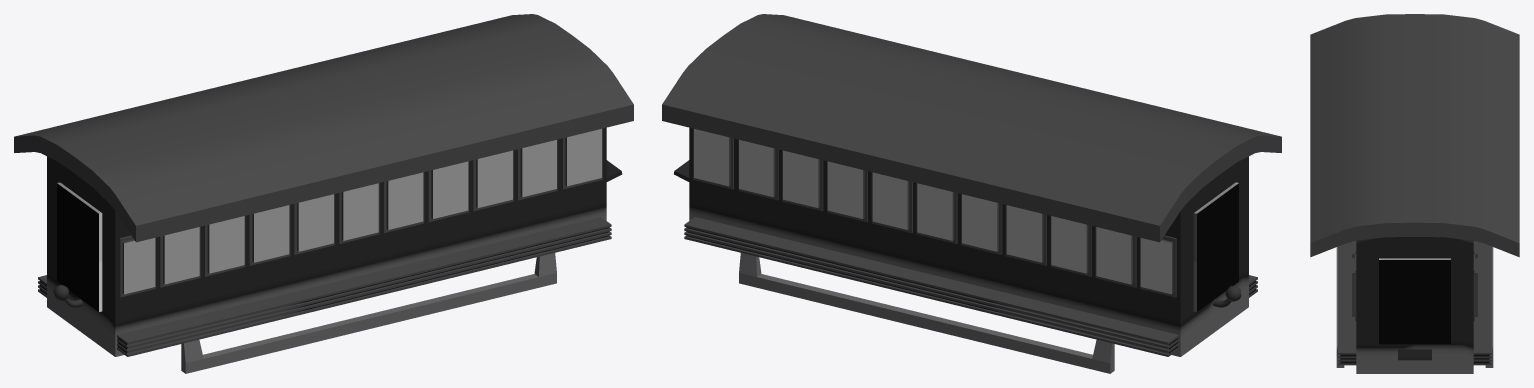
The model's file is wagon.fbx.
The picture shows the model from 3 angles, left to right: view 1: azimuth 30°, elevation 25°; view 2: azimuth 150°, elevation 25°; view 3: azimuth 270°, elevation 25°; orthographic projection. The views are drawn at different scales.
Parts seen in each view (by area): view 1: wagon; view 2: wagon; view 3: wagon.
Part boxes in pixels (x1,y1,x2,y2): wagon: (14,14,633,373); wagon: (662,14,1281,373); wagon: (1310,14,1519,373).
Bounding box in the file's own units: 1041 × 356 × 395.
